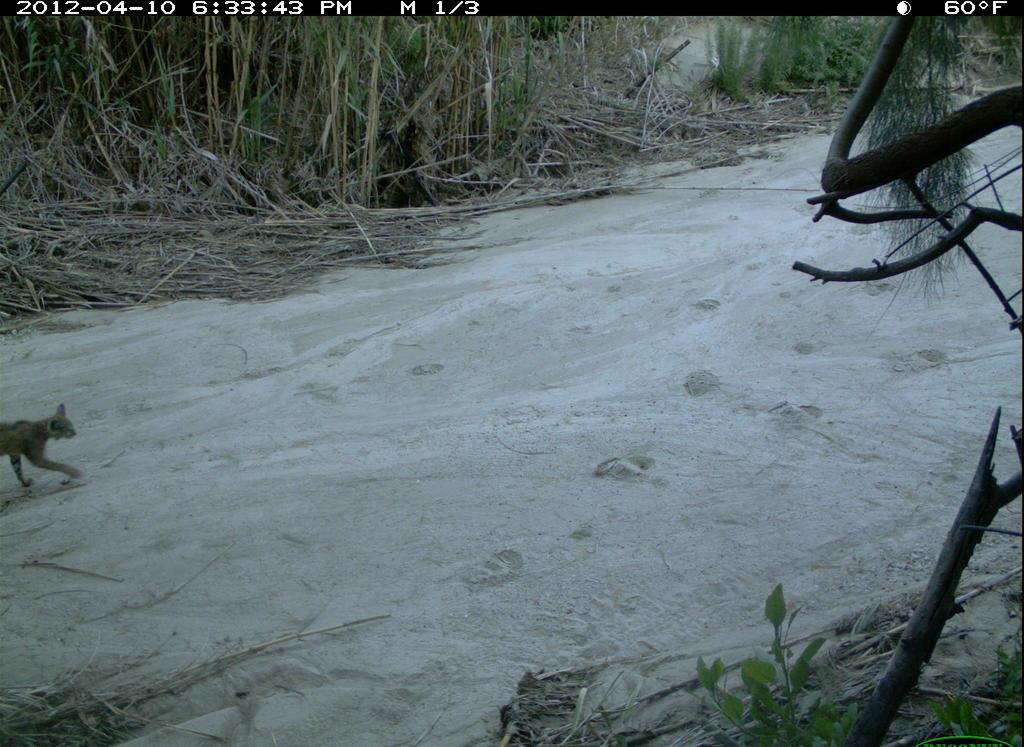bobcat: (1, 406, 99, 504)
